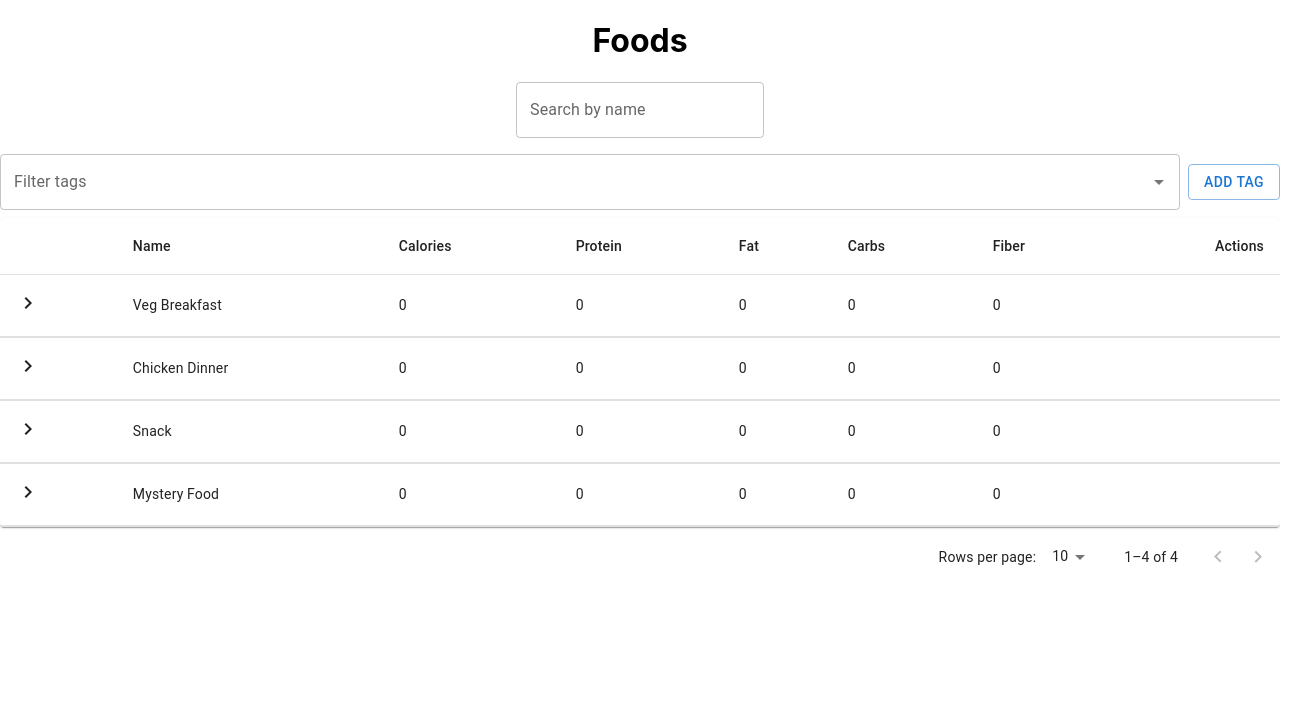
Test: FoodTable tag filtering › filters foods by a single selected tag and excludes foods without tags
The width and height of the screenshot is (1292, 720).
Step 1. Click the dropdown labelled "Filter tags" → (575, 182), box [9,163,1141,201]
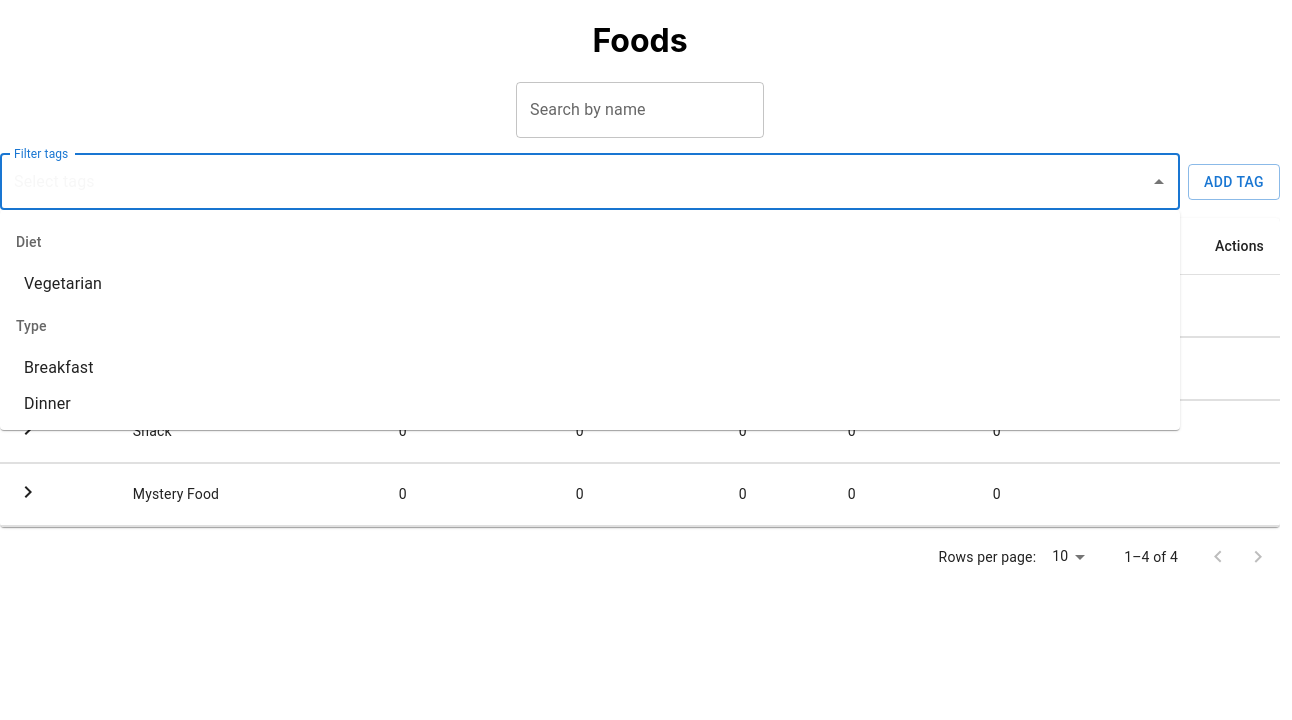
Step 2. Click the option "Dinner" → (47, 404), box [24,394,71,413]
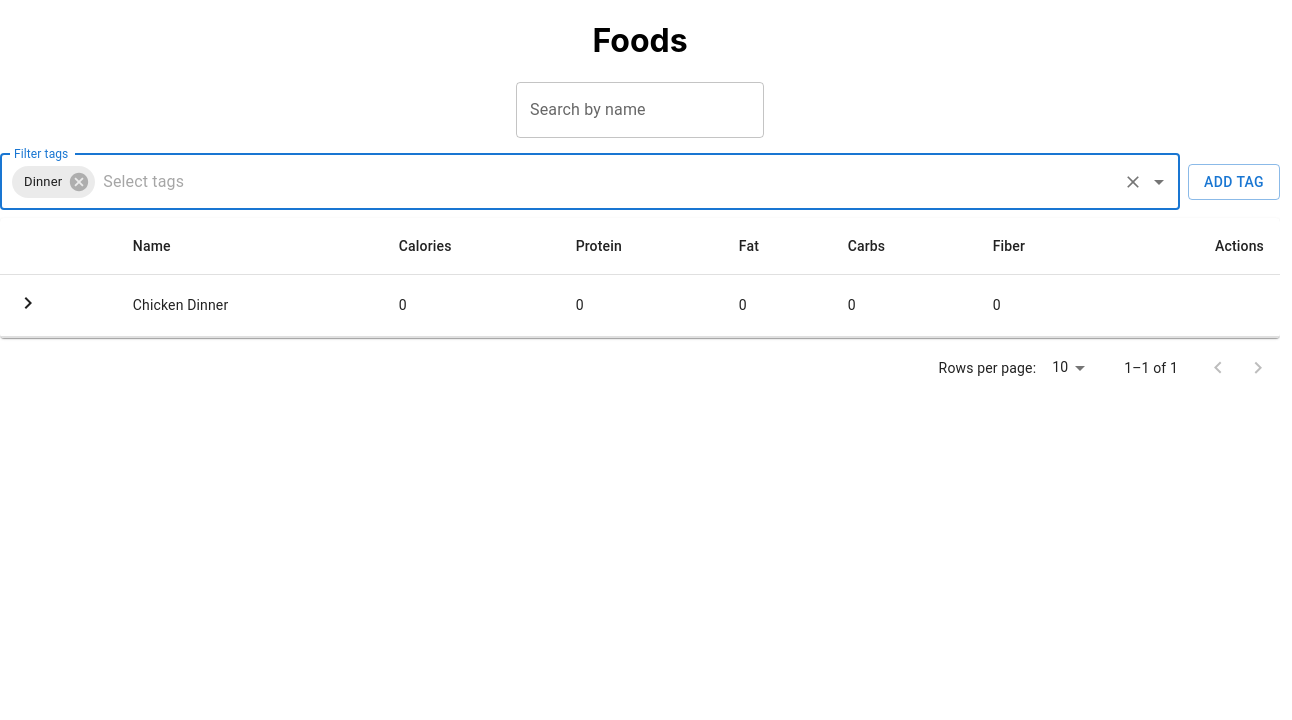
Expected: the text "Veg Breakfast" is gone
Expected: the text "Snack" is gone
Expected: the text "Mystery Food" is gone
